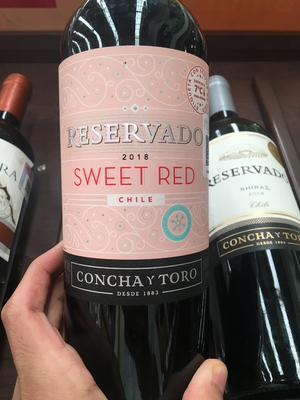reservado sweet red: (58, 9, 223, 398)
